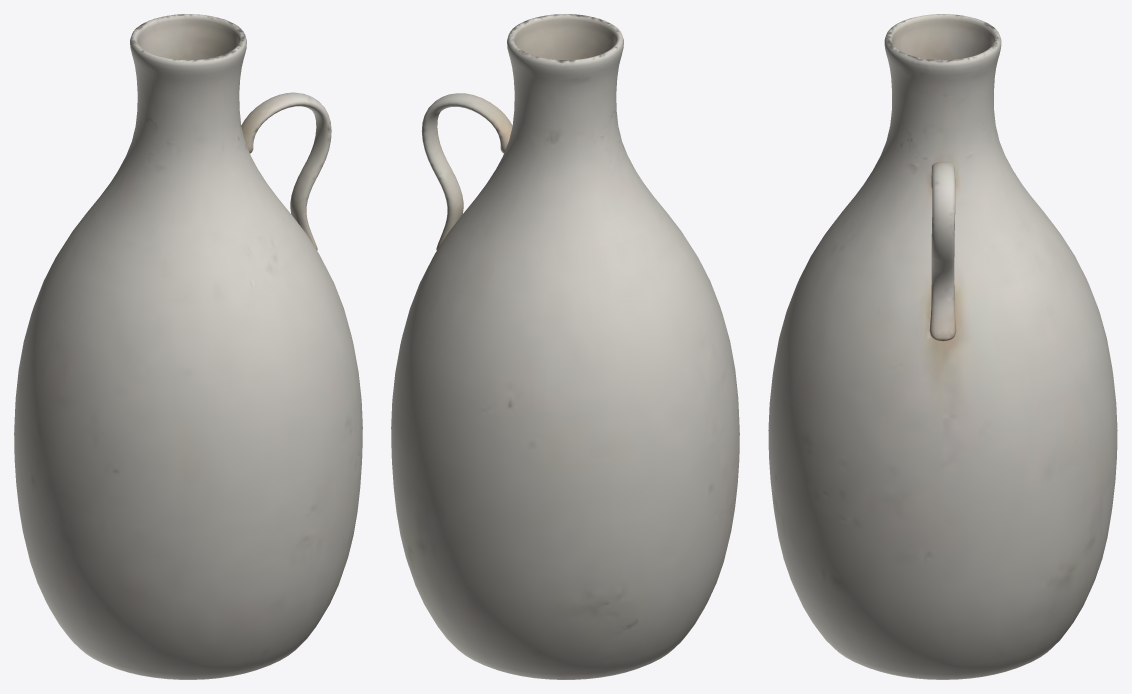
Rendered from ceramic_vase_04.glb.
3 views of the same model, side by side, from view 1: azimuth 30°, elevation 25°; view 2: azimuth 150°, elevation 25°; view 3: azimuth 270°, elevation 25° (orthographic).
Visible parts, largest first — view 1: ceramic_vase_04; view 2: ceramic_vase_04; view 3: ceramic_vase_04.
Part boxes in pixels (x1,y1,x2,y2): ceramic_vase_04: (14, 14, 362, 679); ceramic_vase_04: (391, 14, 739, 679); ceramic_vase_04: (768, 14, 1117, 679).
Size of the model in its own units: 0.1811 by 0.3419 by 0.1811.
Materials: 1 (1 with a texture image).
